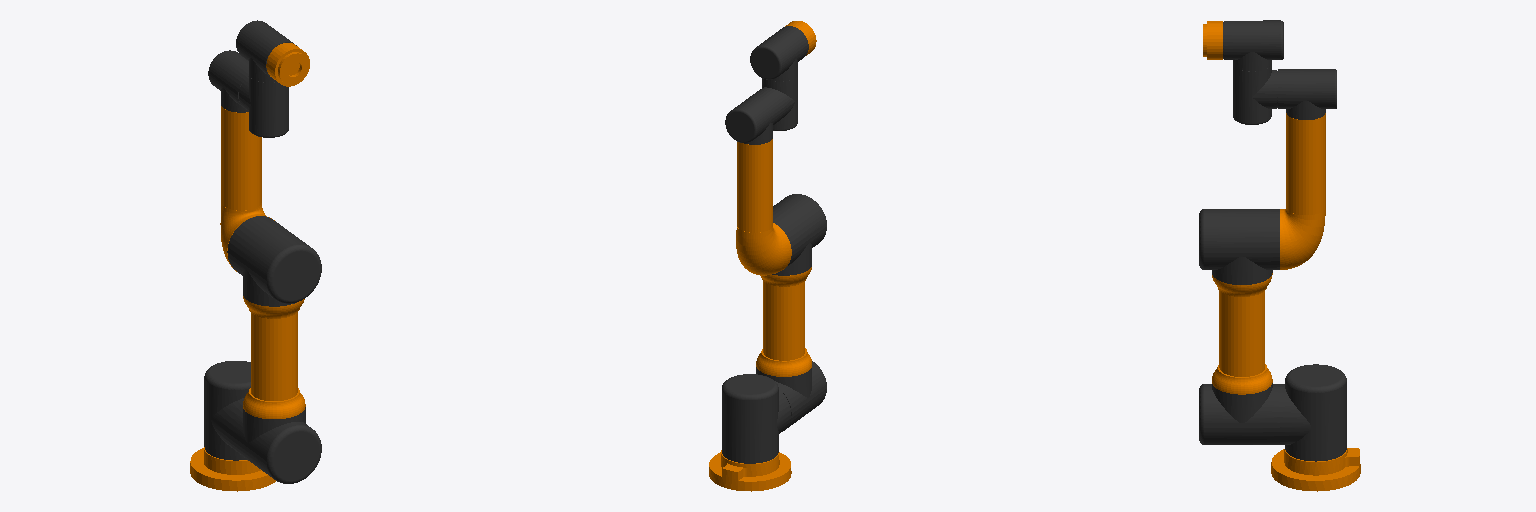
The robot description file, URDF, robot "aobo_i7":
 <robot name="aobo_i7">
    <link name="link_base">
        <visual>
		  <origin xyz="0. 0. 0." rpy="0. 0. 0." />
		  <geometry>
			<mesh filename="Geometry/i7-(1)-base.obj" scale="0.001 0.001 0.001" />
		  </geometry>
		  <material
			name="robot_orange">
			<color rgba="0.9137255 0.5137254 0. 1" />
		  </material>
		</visual>
		<collision>
          <origin xyz="0. 0. 0." rpy="0. 0. 0." />
          <geometry>
            <mesh filename="Geometry/i7-(1)-base_vhacd.obj" scale="0.001 0.001 0.001" />
          </geometry>
        </collision>
    </link>

	<link name="link_robot_joint1">
		<visual>
		  <origin xyz="0. 0. -.122" rpy="0. 0. 0" />
		  <geometry>
			<mesh filename="Geometry/i7-(2)-ID1.obj" scale="0.001 0.001 0.001" />
		  </geometry>
		  <material
			name="robot_black">
			<color rgba="0.2509804 0.2509804 0.2509804 1" />
		  </material>
		</visual>
		<collision>
          <origin xyz="0. 0. -.122" rpy="0. 0. 0" />
          <geometry>
            <mesh filename="Geometry/i7-(2)-ID1_vhacd.obj" scale="0.001 0.001 0.001" />
          </geometry>
        </collision>
    </link>

	<joint name="robot_j1" type="revolute">
        <axis xyz="0 0 1"/>
        <parent link="link_base"/>
        <child link="link_robot_joint1"/>
        <origin rpy="0. 0. 0" xyz="0. 0. 0.122"/>
        <limit lower="-3.04" upper="3.04" effort="0" velocity="0" />
    </joint>

	<link name="link_robot_joint2">
		<visual>
		  <origin xyz="0. 0.1215 -.122" rpy="0. 0. 0" />
		  <geometry>
			<mesh filename="Geometry/i7-(3)-ID2.obj" scale="0.001 0.001 0.001" />
		  </geometry>
		  <material
			name="robot_black">
			<color rgba="0.2509804 0.2509804 0.2509804 1" />
		  </material>
		</visual>
		<collision>
          <origin xyz="0. 0.1215 -.122" rpy="0. 0. 0" />
          <geometry>
            <mesh filename="Geometry/i7-(3)-ID2_vhacd.obj" scale="0.001 0.001 0.001" />
          </geometry>
        </collision>

		<visual>
		  <origin xyz="0. 0.1215 -0.122" rpy="0. 0. 0" />
		  <geometry>
			<mesh filename="Geometry/i7-(8)-dabiguan.obj" scale="0.001 0.001 0.001" />
		  </geometry>
		  <material
			name="robot_orange">
		  </material>
		</visual>
		<collision>
          <origin xyz="0. 0.1215 -0.122" rpy="0. 0. 0" />
          <geometry>
            <mesh filename="Geometry/i7-(8)-dabiguan_vhacd.obj" scale="0.001 0.001 0.001" />
          </geometry>
        </collision>

		<visual>
		  <origin xyz="0. 0.1215 -0.122" rpy="0. 0. 0" />
		  <geometry>
			<mesh filename="Geometry/i7-(4)-ID3.obj" scale="0.001 0.001 0.001" />
		  </geometry>
		  <material name="robot_black"/>
		</visual>
		<collision>
          <origin xyz="0. 0.1215 -0.122" rpy="0. 0. 0" />
          <geometry>
            <mesh filename="Geometry/i7-(4)-ID3_vhacd.obj" scale="0.001 0.001 0.001" />
          </geometry>
        </collision>
    </link>

	<joint name="robot_j2" type="revolute">
        <axis xyz="0 1 0"/>
        <parent link="link_robot_joint1"/>
        <child link="link_robot_joint2"/>
        <origin rpy="0. 0. 0." xyz="0. -0.1215 0."/>
        <limit lower="-3.04" upper="3.04" effort="0" velocity="0" />
    </joint>

	<link name="link_robot_joint3">
		<visual>
		  <origin xyz="0. 0.1215 -0.490" rpy="0. 0. 0" />
		  <geometry>
			<mesh filename="Geometry/i7-(10)-wantou.obj" scale="0.001 0.001 0.001" />
		  </geometry>
		  <material
			name="robot_orange">
		  </material>
		</visual>
		<collision>
          <origin xyz="0. 0.1215 -0.490" rpy="0. 0. 0" />
          <geometry>
            <mesh filename="Geometry/i7-(10)-wantou_vhacd.obj" scale="0.001 0.001 0.001" />
          </geometry>
        </collision>

		<visual>
		  <origin xyz="0. 0.1215 -0.490" rpy="0. 0. 0" />
		  <geometry>
			<mesh filename="Geometry/i7-(9)-xiaobiguan.obj" scale="0.001 0.001 0.001" />
		  </geometry>
		  <material
			name="robot_orange">
		  </material>
		</visual>
		<collision>
          <origin xyz="0. 0.1215 -0.490" rpy="0. 0. 0" />
          <geometry>
            <mesh filename="Geometry/i7-(9)-xiaobiguan_vhacd.obj" scale="0.001 0.001 0.001" />
          </geometry>
        </collision>

		<visual>
		  <origin xyz="0. 0.1215 -0.490" rpy="0. 0. 0" />
		  <geometry>
			<mesh filename="Geometry/i7-(5)-ID4.obj" scale="0.001 0.001 0.001" />
		  </geometry>
		  <material
			name="robot_black">
		  </material>
		</visual>
		<collision>
          <origin xyz="0. 0.1215 -0.490" rpy="0. 0. 0" />
          <geometry>
            <mesh filename="Geometry/i7-(5)-ID4_vhacd.obj" scale="0.001 0.001 0.001" />
          </geometry>
        </collision>
    </link>

	<joint name="robot_j3" type="revolute">
        <axis xyz="0 1 0"/>
        <parent link="link_robot_joint2"/>
        <child link="link_robot_joint3"/>
        <origin rpy="0. 0. 0." xyz="0. 0. 0.368"/>
        <limit lower="-3.04" upper="3.04" effort="0" velocity="0" />
    </joint>


	<link name="link_robot_joint4">
		<visual>
		  <origin xyz="0. 0.1215 -0.806" rpy="0. 0. 0" />
		  <geometry>
			<mesh filename="Geometry/i7-(6)-ID5.obj" scale="0.001 0.001 0.001" />
		  </geometry>
		  <material
			name="robot_black">
		  </material>
		</visual>
		<collision>
          <origin xyz="0. 0.1215 -0.806" rpy="0. 0. 0" />
          <geometry>
            <mesh filename="Geometry/i7-(6)-ID5_vhacd.obj" scale="0.001 0.001 0.001" />
          </geometry>
        </collision>
    </link>

	<joint name="robot_j4" type="revolute">
        <axis xyz="0 1 0"/>
        <parent link="link_robot_joint3"/>
        <child link="link_robot_joint4"/>
        <origin rpy="0 0 0" xyz="0. 0. 0.316"/>
        <limit lower="-3.04" upper="3.04" effort="0" velocity="0" />
    </joint>

	<link name="link_robot_joint5">
		<visual>
		  <origin xyz="0. 0.1215 -0.9085" rpy="0. 0. 0" />
		  <geometry>
			<mesh filename="Geometry/i7-(7)-ID6.obj" scale="0.001 0.001 0.001" />
		  </geometry>
		  <material
			name="robot_black">
		  </material>
		</visual>
		<collision>
          <origin xyz="0. 0.1215 -0.9085" rpy="0. 0. 0" />
          <geometry>
            <mesh filename="Geometry/i7-(7)-ID6_vhacd.obj" scale="0.001 0.001 0.001" />
          </geometry>
        </collision>
    </link>

	<joint name="robot_j5" type="revolute">
        <axis xyz="0 0 1"/>
        <parent link="link_robot_joint4"/>
        <child link="link_robot_joint5"/>
        <origin rpy="0 0 0" xyz="0. 0. 0.1025"/>
        <limit lower="-3.04" upper="3.04" effort="0" velocity="0" />
    </joint>

	<link name="link_robot_joint6">
		<visual>
		  <origin xyz="0. 0.2155 -0.9085" rpy="0. 0. 0" />
		  <geometry>
			<mesh filename="Geometry/i7-(11)-endeffect.obj" scale="0.001 0.001 0.001" />
		  </geometry>
		  <material
			name="robot_orange">
		  </material>
		</visual>
		<collision>
          <origin xyz="0. 0.2155 -0.9085" rpy="0. 0. 0" />
          <geometry>
            <mesh filename="Geometry/i7-(11)-endeffect_vhacd.obj" scale="0.001 0.001 0.001" />
          </geometry>
        </collision>
    </link>

	<joint name="robot_j6" type="revolute">
        <axis xyz="0 1 0"/>
        <parent link="link_robot_joint5"/>
        <child link="link_robot_joint6"/>
        <origin rpy="0 0 0" xyz="0. -0.094 0."/>
        <limit lower="-3.04" upper="3.04" effort="0" velocity="0" />
    </joint>

</robot>

--- Facts derived from the render (not from the file) ---
3 views of the same robot in one strip: view 1: azimuth 30°, elevation 25°; view 2: azimuth 150°, elevation 25°; view 3: azimuth 270°, elevation 25° (orthographic).
Robot: aobo_i7 — 7 links, 6 joints (6 revolute); root link link_base; default pose: all joints at 0.
Links seen in each view (by area): view 1: link_robot_joint2, link_robot_joint3, link_robot_joint1, link_robot_joint4, link_base, link_robot_joint5, link_robot_joint6; view 2: link_robot_joint2, link_robot_joint3, link_robot_joint1, link_base, link_robot_joint5, link_robot_joint4; view 3: link_robot_joint2, link_robot_joint3, link_robot_joint1, link_base, link_robot_joint5, link_robot_joint4, link_robot_joint6.
Link boxes in pixels (left/top/right/bottom): link_robot_joint2: left=227, top=216, right=321, bottom=483; link_robot_joint3: left=208, top=50, right=274, bottom=271; link_robot_joint1: left=204, top=361, right=250, bottom=460; link_robot_joint4: left=239, top=76, right=288, bottom=137; link_base: left=190, top=447, right=275, bottom=491; link_robot_joint5: left=236, top=20, right=296, bottom=82; link_robot_joint6: left=266, top=43, right=309, bottom=86; link_robot_joint2: left=756, top=194, right=826, bottom=430; link_robot_joint3: left=725, top=89, right=791, bottom=275; link_robot_joint1: left=722, top=374, right=790, bottom=463; link_base: left=709, top=450, right=791, bottom=491; link_robot_joint5: left=750, top=26, right=808, bottom=81; link_robot_joint4: left=760, top=76, right=797, bottom=130; link_robot_joint2: left=1199, top=209, right=1279, bottom=444; link_robot_joint3: left=1277, top=69, right=1336, bottom=269; link_robot_joint1: left=1280, top=364, right=1346, bottom=461; link_base: left=1271, top=448, right=1360, bottom=491; link_robot_joint5: left=1223, top=20, right=1283, bottom=71; link_robot_joint4: left=1233, top=65, right=1276, bottom=124; link_robot_joint6: left=1203, top=21, right=1222, bottom=59.
Size in the robot's own frame: 0.1703 by 0.3074 by 0.9465 metres.
Meshes: 11 distinct files referenced, 11 mesh visuals loaded (11 OBJ).
